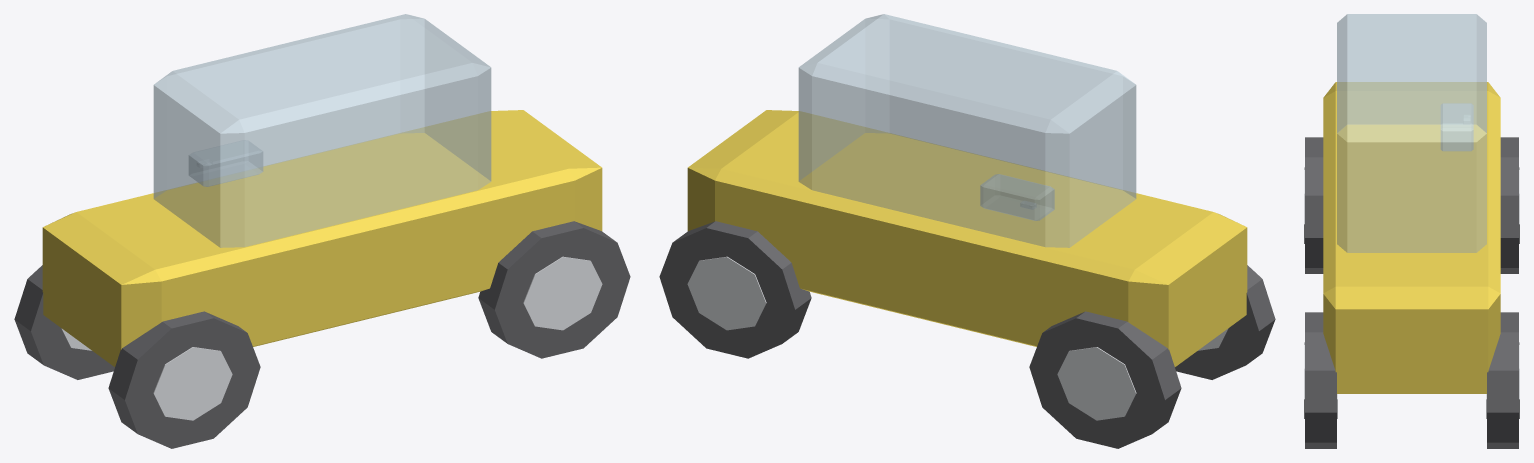
File: b07_mobile_inclined_belt_conveyor.glb
The picture shows the model from 3 angles, left to right: view 1: azimuth 30°, elevation 25°; view 2: azimuth 150°, elevation 25°; view 3: azimuth 270°, elevation 25°; orthographic projection. The views are drawn at different scales.
Parts seen in each view (by area): view 1: b07_mobile_inclined_belt_conveyor; view 2: b07_mobile_inclined_belt_conveyor; view 3: b07_mobile_inclined_belt_conveyor.
Boxes of the visible parts, x1,y1,x2,y2 form: b07_mobile_inclined_belt_conveyor: (14, 14, 630, 448); b07_mobile_inclined_belt_conveyor: (659, 14, 1275, 448); b07_mobile_inclined_belt_conveyor: (1304, 14, 1519, 448).
Size of the model in its own units: 4.63 by 2.55 by 1.77.
